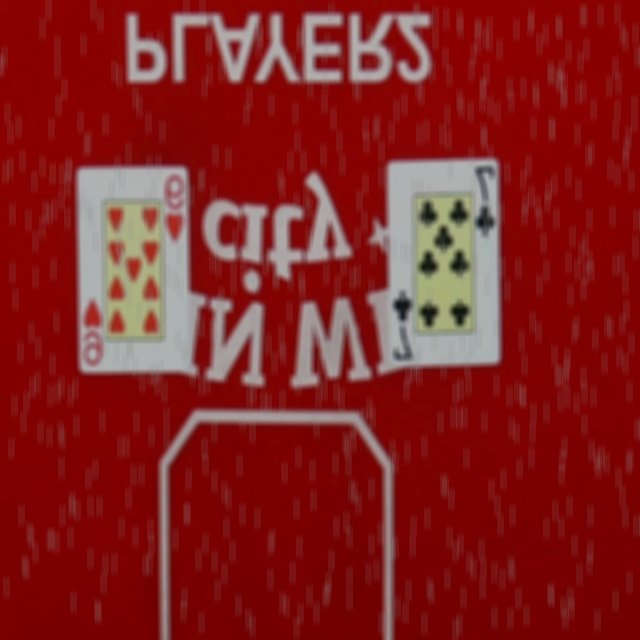7C: (390, 289, 416, 366), (474, 162, 499, 242)
9H: (162, 172, 187, 245), (79, 295, 103, 368)
